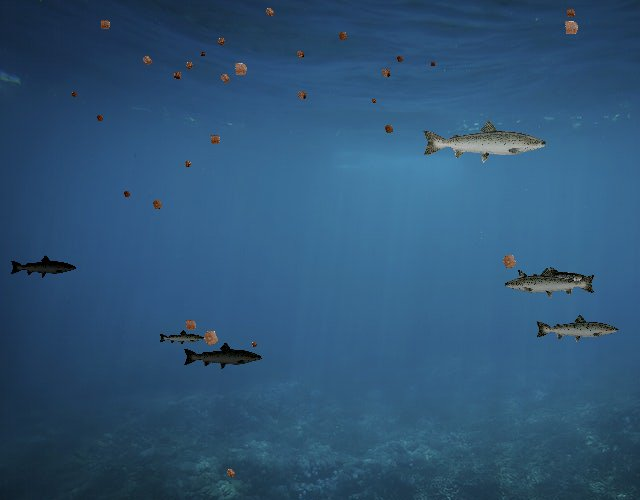Fish: (420, 118, 549, 164), (504, 267, 598, 300), (534, 313, 620, 344), (182, 341, 263, 370), (515, 266, 588, 292), (10, 255, 78, 279), (158, 329, 205, 346)
Pellet: (196, 322, 226, 353), (179, 314, 202, 337), (376, 64, 395, 83), (222, 464, 240, 482), (180, 157, 195, 172), (120, 187, 134, 201)
